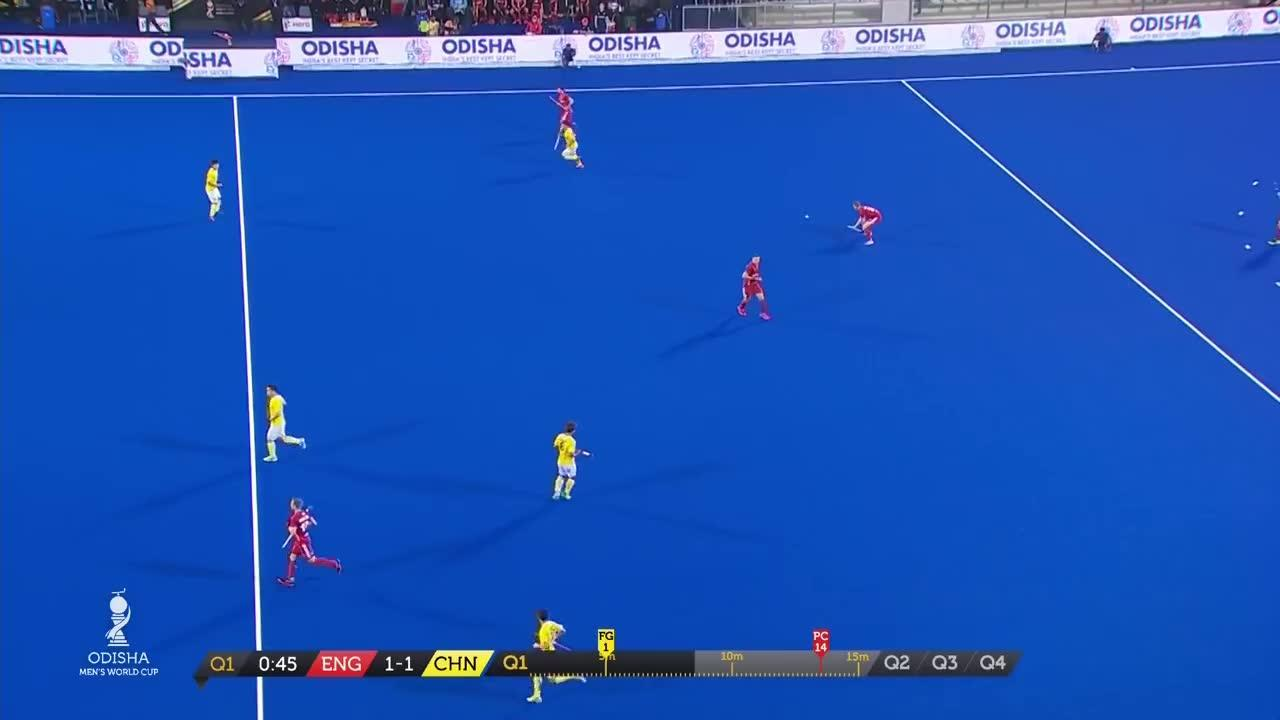ball: (802, 207, 812, 231)
